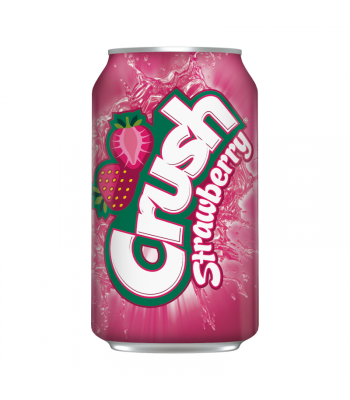can: (91, 46, 260, 355)
